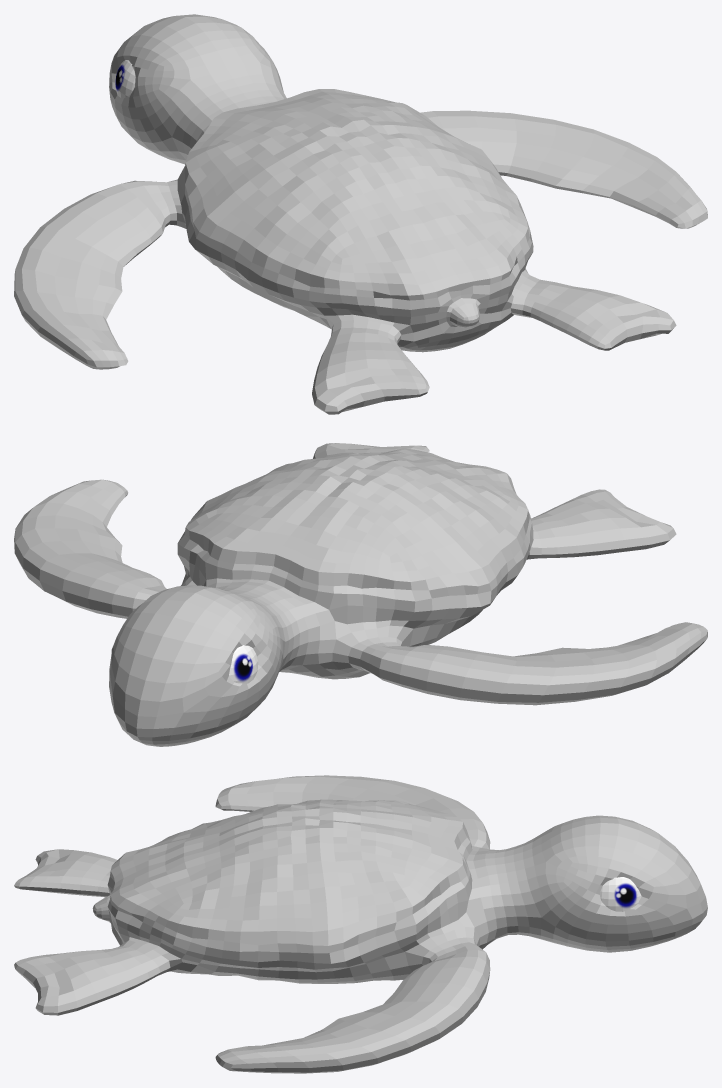
The model's file is Spaceturtle001.fbx.
3 renders of one model, top to bottom at view 1: azimuth 30°, elevation 25°; view 2: azimuth 150°, elevation 25°; view 3: azimuth 270°, elevation 25°, orthographic. The views are drawn at different scales.
Parts seen in each view (by area): view 1: turtle_body_geo, turtle_eye_left_geo; view 2: turtle_body_geo, turtle_eye_left_geo; view 3: turtle_body_geo, turtle_eye_right_geo.
Boxes of the visible parts, <box> form: turtle_body_geo: <box>14,14,707,414</box>; turtle_eye_left_geo: <box>115,60,135,98</box>; turtle_body_geo: <box>14,443,707,746</box>; turtle_eye_left_geo: <box>229,645,258,683</box>; turtle_body_geo: <box>14,775,707,1073</box>; turtle_eye_right_geo: <box>599,877,641,911</box>.
Bounding box in the file's own units: 4.27 × 0.9919 × 4.42.
